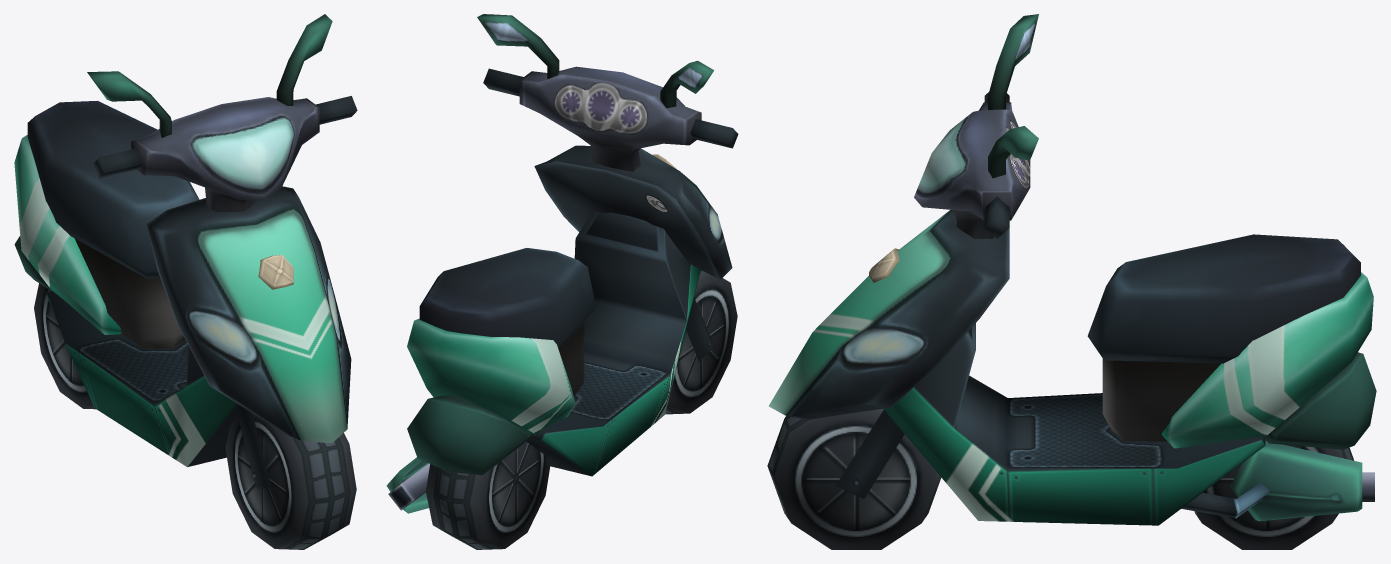
File: Motor.FBX
3 renders of one model, left to right at view 1: azimuth 30°, elevation 25°; view 2: azimuth 150°, elevation 25°; view 3: azimuth 270°, elevation 25°, orthographic. The views are drawn at different scales.
Visible parts, largest first — view 1: Motor_ms1; view 2: Motor_ms1; view 3: Motor_ms1.
Part boxes in pixels (x1,y1,x2,y2): Motor_ms1: (14,14,357,549); Motor_ms1: (386,14,738,549); Motor_ms1: (767,14,1376,549).
Bounding box in the file's own units: 116 × 190 × 225.
